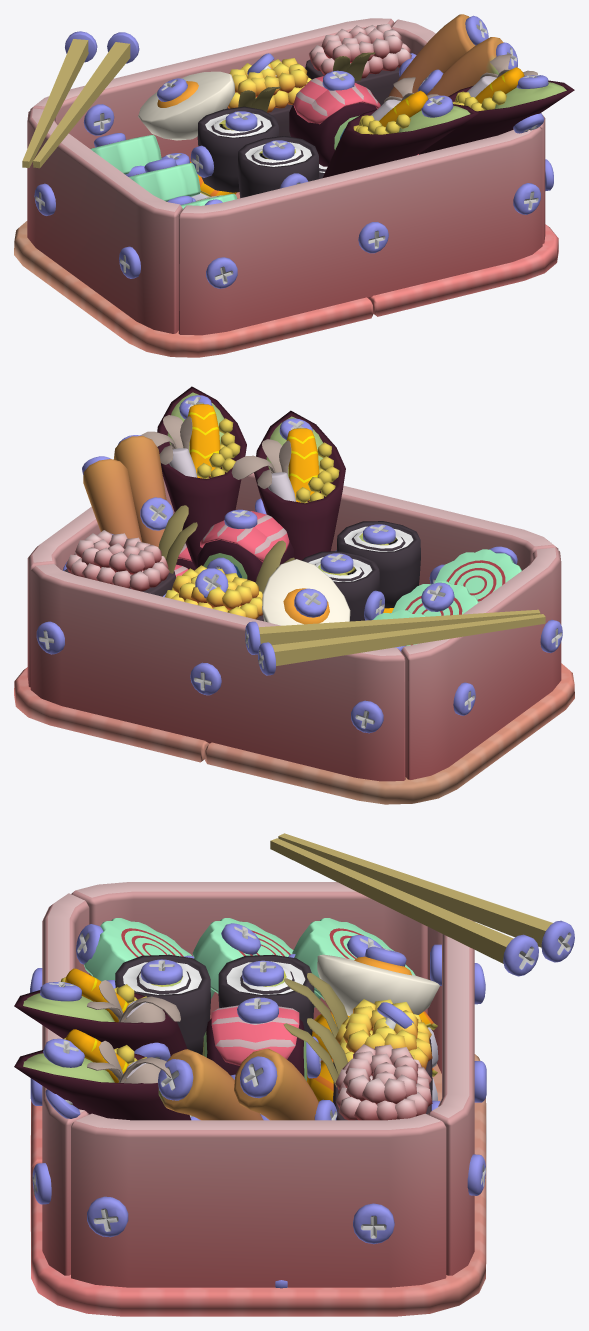
Rendered from lvl_50.fbx.
The picture shows the model from 3 angles, top to bottom: view 1: azimuth 30°, elevation 25°; view 2: azimuth 150°, elevation 25°; view 3: azimuth 270°, elevation 25°; orthographic projection. The views are drawn at different scales.
Parts seen in each view (by area): view 1: Wood_6, Wood_1, Wood_4, Wood_5, Sushi_9, Sushi_11, Sushi_10, Wood_7, Sushi_8, Sushi_4, Sushi_7, Sushi_5 (+22 smaller); view 2: Wood_5, Wood_1, Wood_4, Sushi_9, Sushi_11, Wood_6, Sushi_10, Wood_7, Wood_2, Sushi_6, Sushi_4, Sushi_8 (+20 smaller); view 3: Wood_8, Wood_1, Wood_7, Wood_5, Sushi_11, Wood_6, Sushi_9, Sushi_10, Wood_3, Wood_2, Sushi_7, Sushi_8 (+26 smaller).
Part boxes in pixels (x1,y1,x2,y2): Wood_6: (178, 127, 542, 335); Wood_1: (27, 108, 182, 333); Wood_4: (14, 221, 373, 357); Wood_5: (30, 18, 394, 161); Sushi_9: (323, 77, 478, 177); Sushi_11: (419, 54, 574, 154); Sushi_10: (305, 23, 411, 105); Wood_7: (235, 192, 558, 316); Sushi_8: (289, 76, 380, 166); Sushi_4: (138, 71, 234, 140); Sushi_7: (226, 58, 311, 136); Sushi_5: (197, 106, 278, 192); Wood_5: (30, 564, 405, 781); Wood_1: (401, 547, 561, 779); Wood_4: (205, 663, 574, 804); Sushi_9: (231, 410, 345, 560); Sushi_11: (140, 386, 246, 568); Wood_6: (235, 473, 558, 585); Sushi_10: (64, 505, 197, 596); Wood_7: (14, 667, 208, 762); Wood_2: (272, 614, 545, 665); Sushi_6: (336, 521, 420, 608); Sushi_4: (262, 559, 350, 625); Sushi_8: (196, 511, 293, 582); Wood_8: (71, 1113, 446, 1287); Wood_1: (71, 882, 427, 1019); Wood_7: (30, 1162, 486, 1316); Wood_5: (427, 919, 474, 1275); Sushi_11: (14, 1029, 191, 1120); Wood_6: (42, 893, 89, 1275); Sushi_9: (14, 968, 187, 1056); Sushi_10: (283, 1018, 432, 1120); Wood_3: (270, 838, 513, 963); Wood_2: (278, 833, 552, 947); Sushi_7: (283, 973, 432, 1100); Sushi_8: (202, 1005, 307, 1081).
Bounding box in the file's own units: 5.47 × 2.28 × 4.42.
